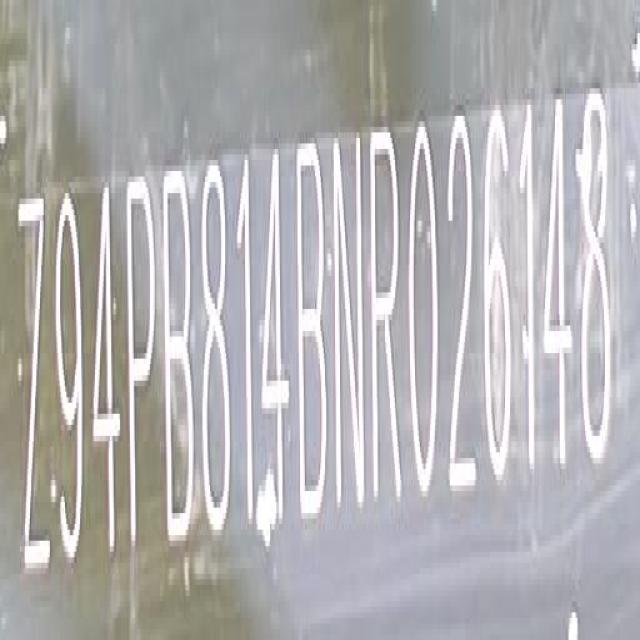0: (408, 116, 439, 504)
1: (516, 94, 540, 480), (235, 154, 253, 536)
2: (447, 113, 480, 501)
4: (259, 148, 293, 534), (92, 175, 124, 573), (546, 105, 576, 477)
6: (479, 102, 513, 482)
8: (581, 92, 616, 476), (200, 162, 231, 546)
9: (51, 190, 83, 579)
B: (292, 139, 330, 517), (161, 165, 196, 553)
N: (336, 130, 368, 517)
P: (128, 168, 160, 560)
R: (370, 127, 402, 516)
Z: (19, 195, 48, 592)
